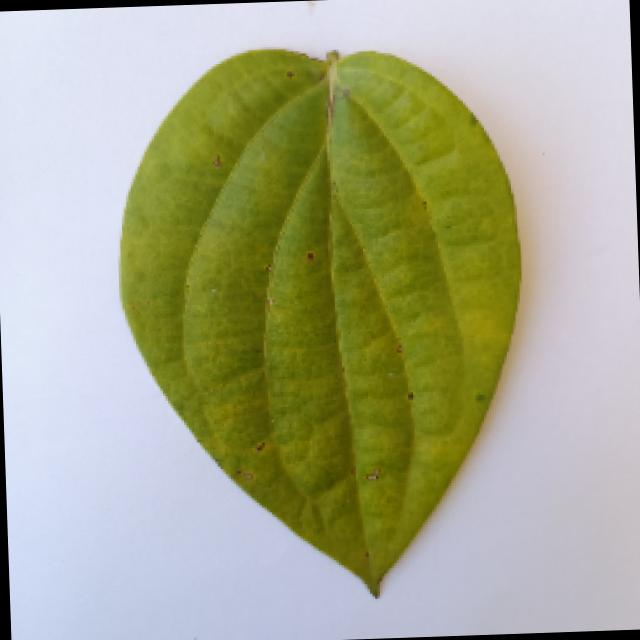slow-decline: (113, 41, 532, 600)
